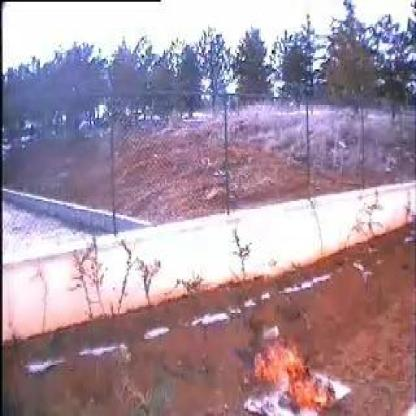-: (242, 322, 257, 372)
foggia-v2-map80-epoch100 - v1 4323: (258, 345, 334, 416)
